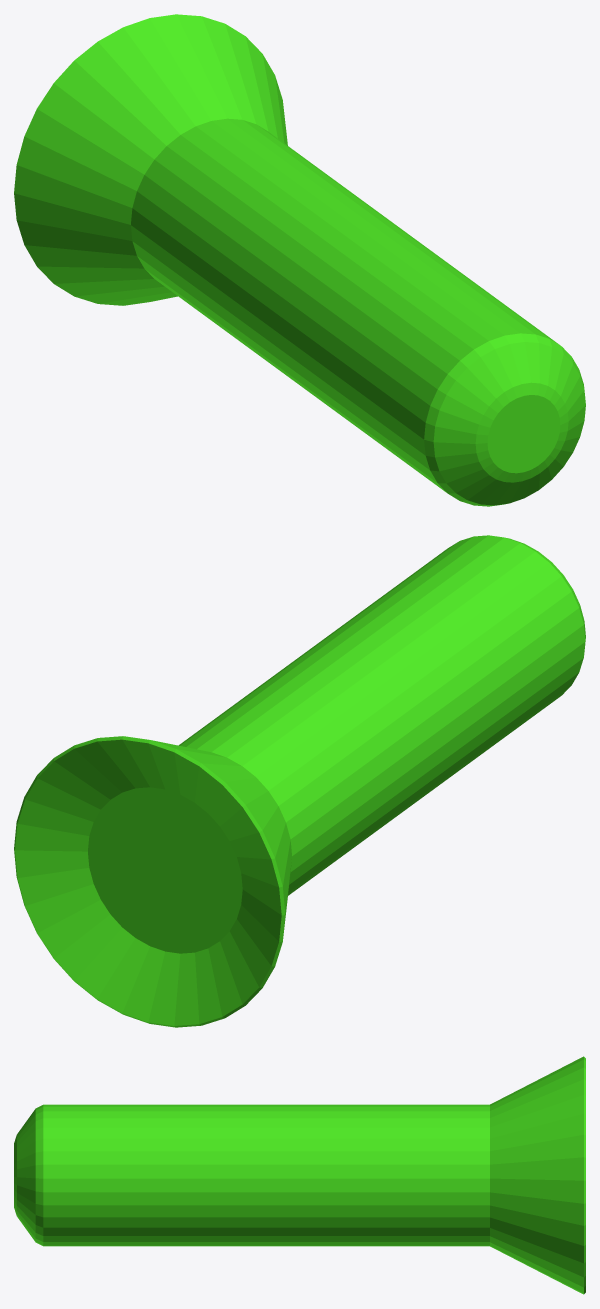
Rendered from flashlight.fbx.
3 renders of one model, top to bottom at view 1: azimuth 30°, elevation 25°; view 2: azimuth 150°, elevation 25°; view 3: azimuth 270°, elevation 25°, orthographic. The views are drawn at different scales.
Visible parts, largest first — view 1: Cylinder; view 2: Cylinder, Cylinder.001; view 3: Cylinder.
Boxes of the visible parts, <box> form: Cylinder: <box>14,14,585,506</box>; Cylinder: <box>14,535,585,1027</box>; Cylinder.001: <box>88,787,242,953</box>; Cylinder: <box>14,1056,585,1294</box>.
Bounding box in the file's own units: 168 × 168 × 403.
